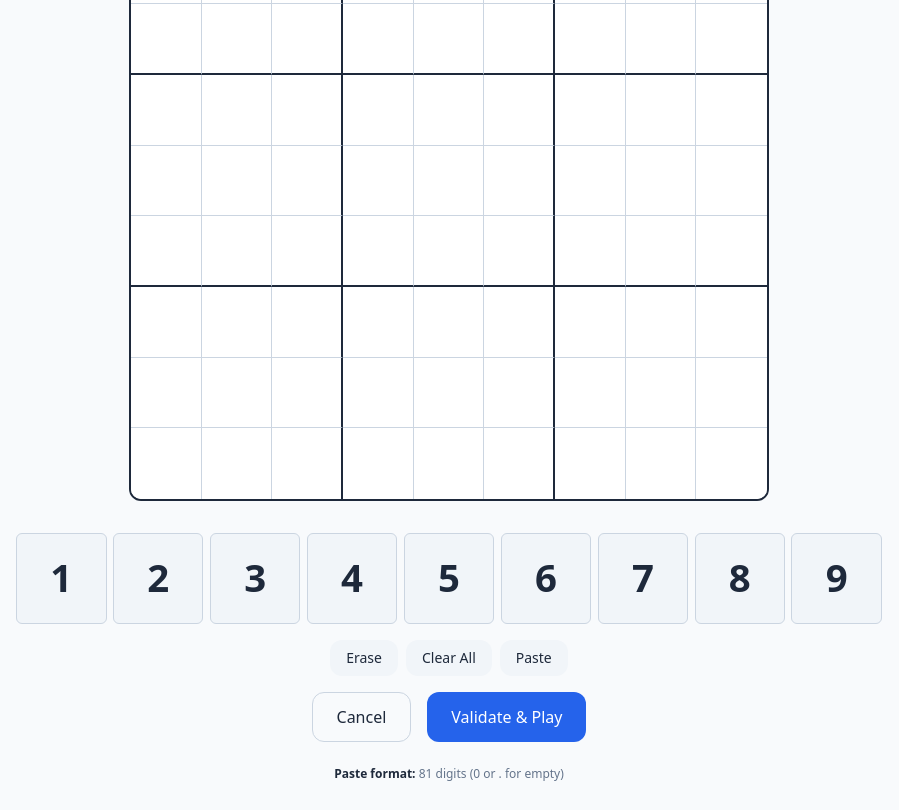
Custom page › validate and play › shows the service reason for an invalid puzzle
Click the button "Paste".
click(534, 658)  # box x1=500 y1=640 x2=568 y2=676
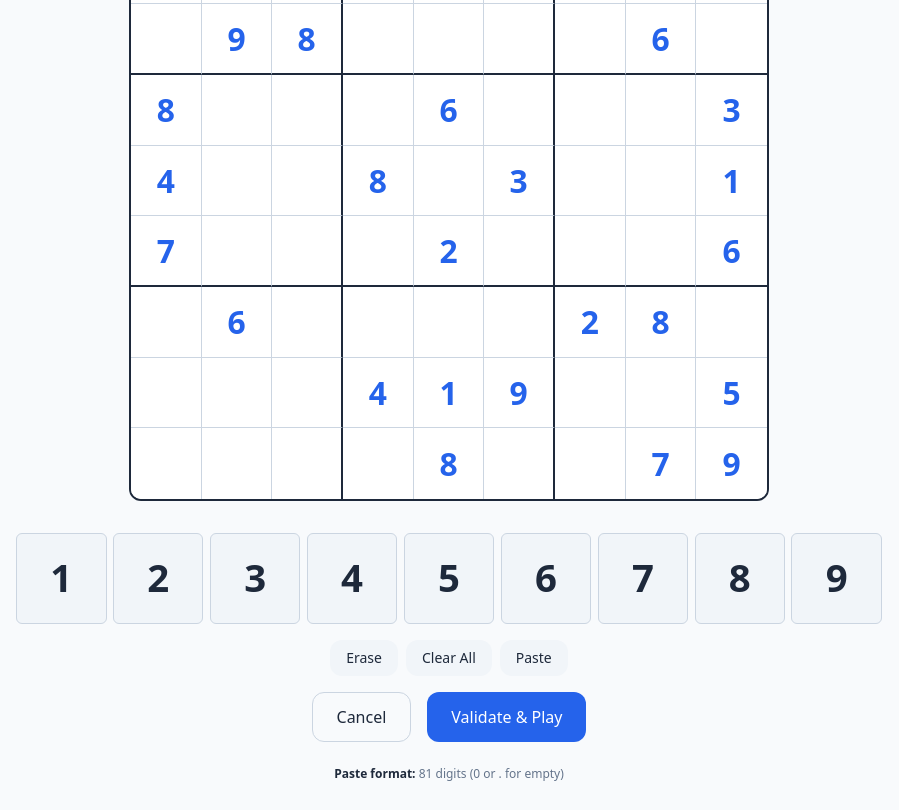
Click the button "Validate & Play".
click(507, 716)  # box x1=427 y1=692 x2=586 y2=742
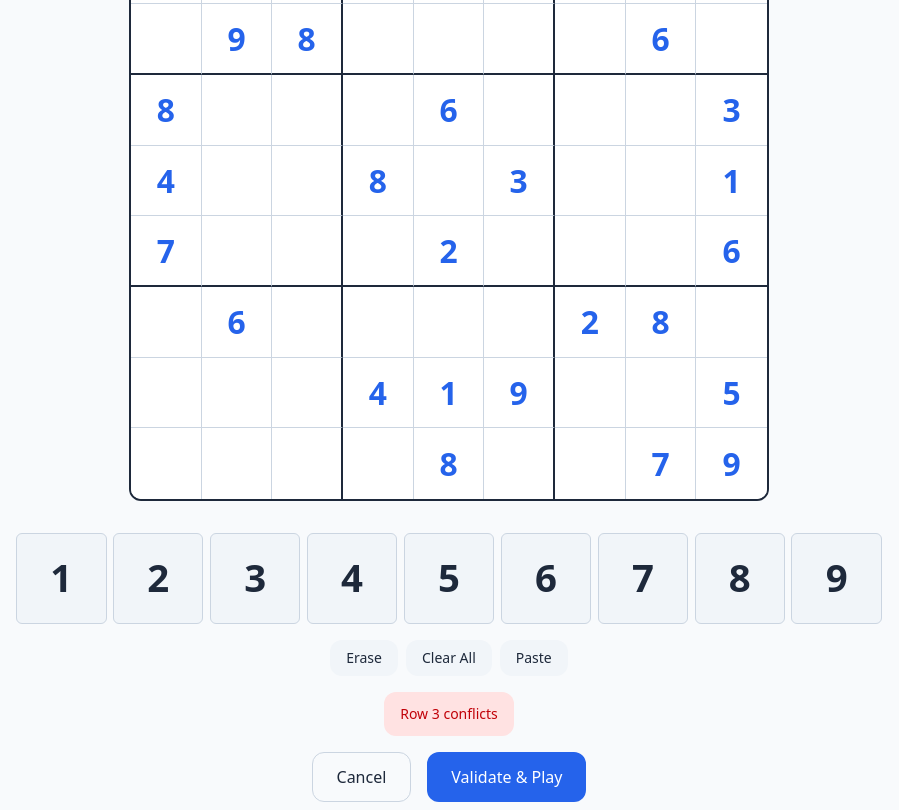
Result: the text "Row 3 conflicts" is shown at x1=384 y1=692 x2=514 y2=736
